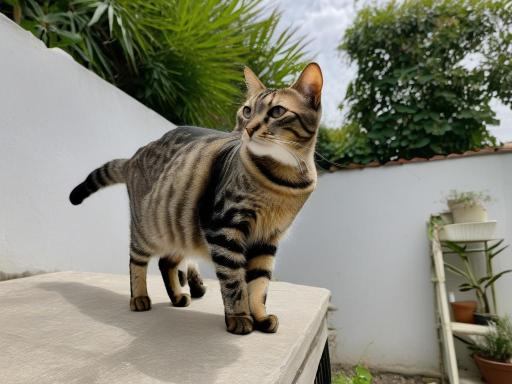cat_standing: (70, 63, 322, 334)
